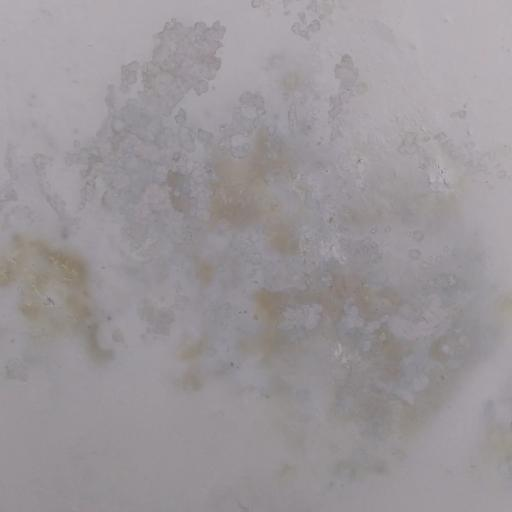algae: (14, 136, 496, 420)
